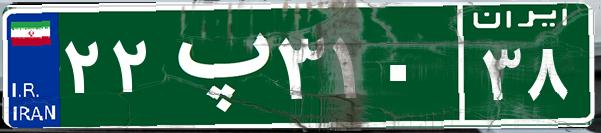0: (385, 28, 445, 110)
1: (330, 28, 385, 110)
2: (57, 26, 110, 107), (110, 28, 158, 105)
3: (273, 28, 330, 110), (475, 38, 525, 113)
8: (525, 38, 570, 115)
پ: (158, 15, 273, 115)
